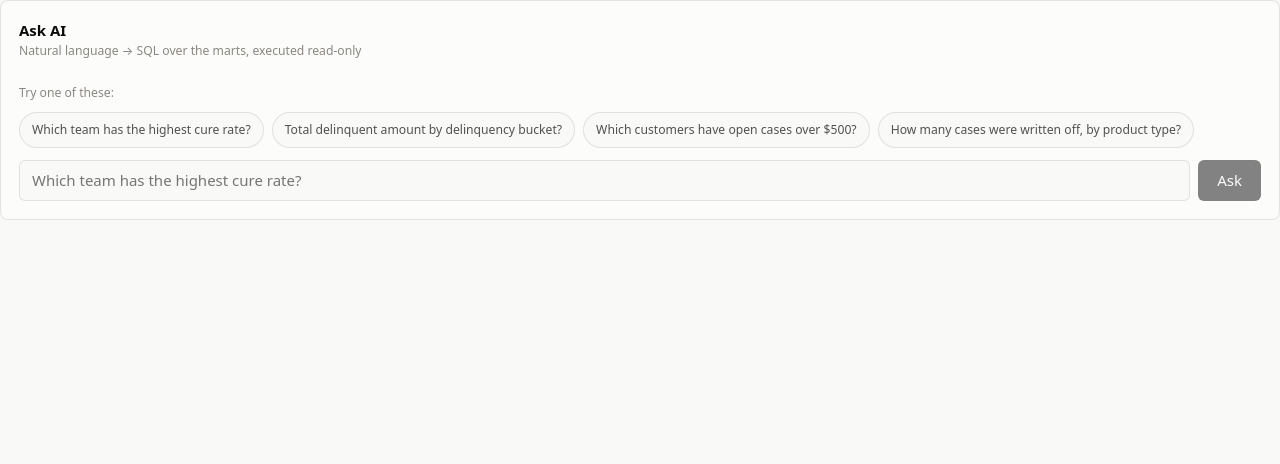
Test: ChatPage › tells a spent token budget apart from a per-minute rate limit
Click the button "Which team has the highest cure rate?".
click(141, 130)  # box [19,112,264,148]
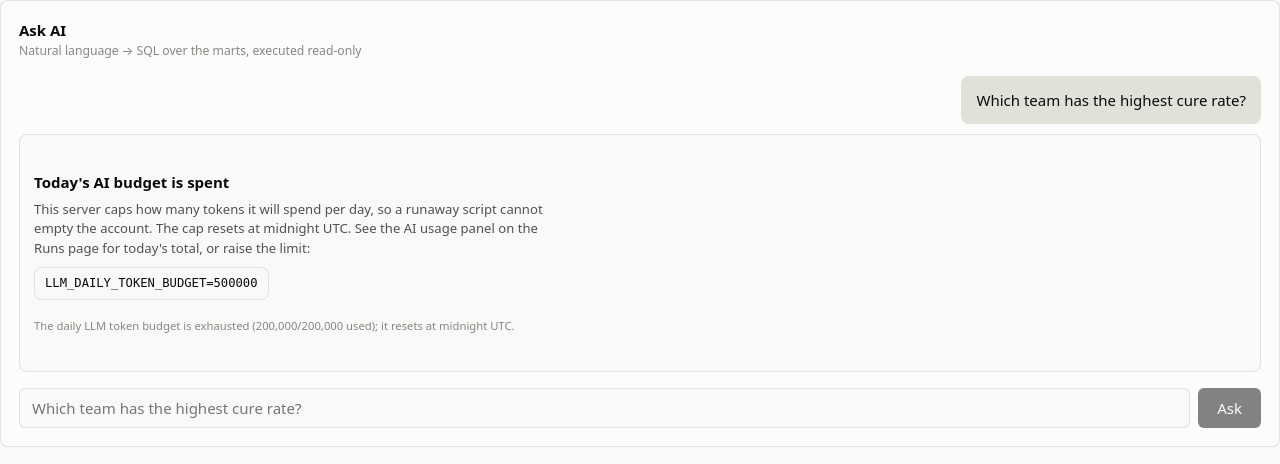
Now the text "Today's AI budget is spent" is shown, box [34,172,229,192]
